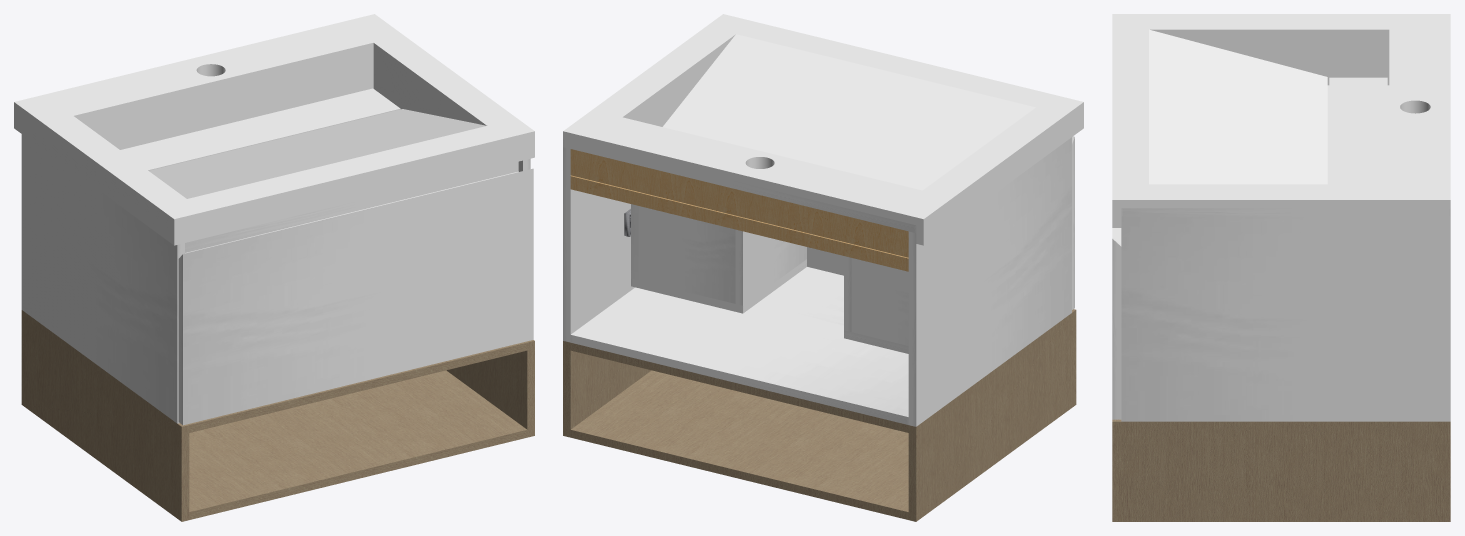
The model's file is 005_Tocador.glb.
The picture shows the model from 3 angles, left to right: view 1: azimuth 30°, elevation 25°; view 2: azimuth 150°, elevation 25°; view 3: azimuth 270°, elevation 25°; orthographic projection. The views are drawn at different scales.
Visible parts, largest first — view 1: root; view 2: root; view 3: root.
Boxes of the visible parts, <box> form: root: <box>14,14,534,521</box>; root: <box>563,14,1083,521</box>; root: <box>1112,14,1450,521</box>.
Size of the model in its own units: 0.715 by 0.577 by 0.55.
Materials: 6 (5 with a texture image).
